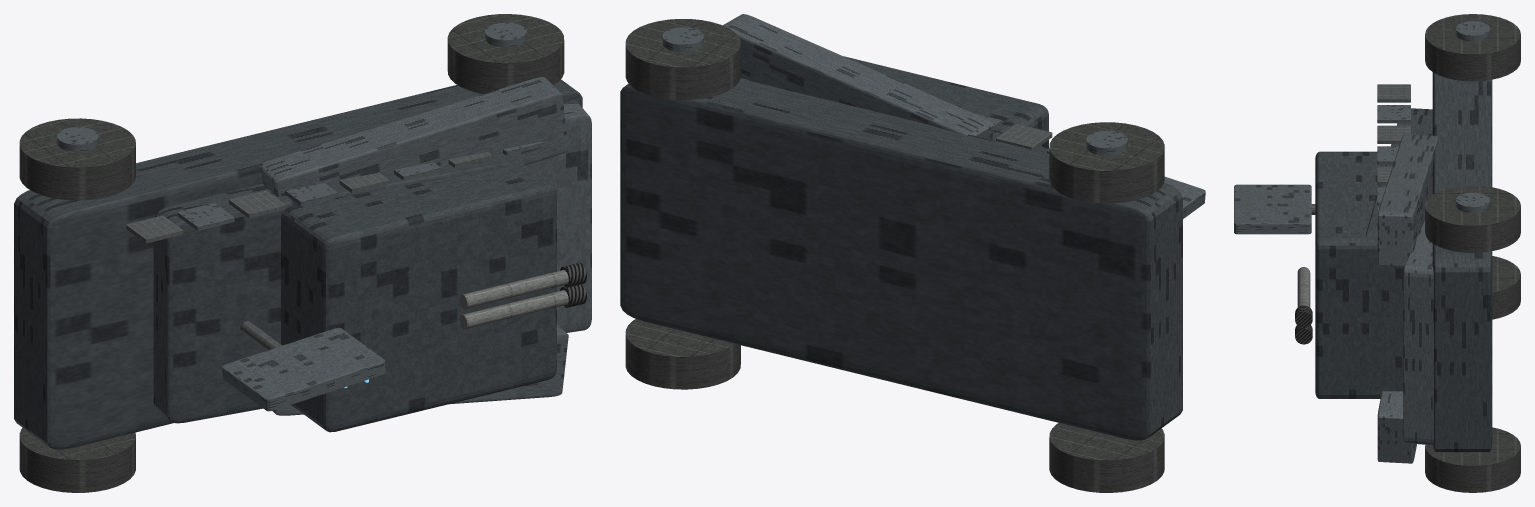
Rendered from s-u11-specter-recon-vehicle-lod0.glb.
3 views of the same model, side by side, from view 1: azimuth 30°, elevation 25°; view 2: azimuth 150°, elevation 25°; view 3: azimuth 270°, elevation 25° (orthographic). The views are drawn at different scales.
Parts seen in each view (by area): view 1: recon_cabin, chassis_lower, stealth_upper_hull, stealth_cheek_1, recon_sensor_array, chassis_wheel_1_0, chassis_wheel_1_1, chassis_nose, chassis_wheel_-1_0, stealth_cheek_-1, recon_gun_barrel_0, recon_gun_barrel_1 (+7 smaller); view 2: chassis_lower, stealth_cheek_1, chassis_wheel_1_0, chassis_wheel_1_1, chassis_wheel_-1_0, chassis_wheel_-1_1, recon_cabin, service_hatch_2, chassis_hub_1_0, chassis_hub_1_1, recon_sensor_array; view 3: recon_cabin, chassis_lower, chassis_nose, stealth_cheek_1, chassis_wheel_1_0, chassis_wheel_1_1, chassis_wheel_-1_1, recon_sensor_array, stealth_cheek_-1, chassis_wheel_-1_0, stealth_upper_hull, service_hatch_0 (+7 smaller).
Boxes of the visible parts, x1,y1,x2,y2 form: recon_cabin: [281, 157, 556, 432]; chassis_lower: [14, 79, 582, 449]; stealth_upper_hull: [153, 156, 513, 423]; stealth_cheek_1: [261, 77, 568, 196]; recon_sensor_array: [222, 327, 385, 411]; chassis_wheel_1_0: [19, 118, 135, 200]; chassis_wheel_1_1: [447, 14, 564, 93]; chassis_nose: [526, 100, 591, 332]; chassis_wheel_-1_0: [19, 428, 135, 492]; stealth_cheek_-1: [272, 324, 568, 415]; recon_gun_barrel_0: [459, 290, 568, 329]; recon_gun_barrel_1: [459, 270, 568, 309]; chassis_lower: [620, 79, 1182, 440]; stealth_cheek_1: [723, 14, 993, 139]; chassis_wheel_1_0: [1049, 122, 1164, 203]; chassis_wheel_1_1: [625, 19, 740, 99]; chassis_wheel_-1_0: [1049, 423, 1164, 492]; chassis_wheel_-1_1: [625, 319, 740, 389]; recon_cabin: [843, 56, 1048, 148]; service_hatch_2: [996, 124, 1052, 150]; chassis_hub_1_0: [1086, 130, 1127, 155]; chassis_hub_1_1: [662, 27, 703, 51]; recon_sensor_array: [1164, 176, 1205, 218]; recon_cabin: [1315, 151, 1404, 398]; chassis_lower: [1432, 72, 1492, 452]; chassis_nose: [1403, 219, 1433, 445]; stealth_cheek_1: [1377, 134, 1438, 266]; chassis_wheel_1_0: [1425, 14, 1520, 81]; chassis_wheel_1_1: [1425, 185, 1520, 252]; chassis_wheel_-1_1: [1425, 427, 1520, 492]; recon_sensor_array: [1234, 184, 1311, 234]; stealth_cheek_-1: [1377, 391, 1416, 463]; chassis_wheel_-1_0: [1492, 256, 1520, 319]; stealth_upper_hull: [1366, 108, 1432, 236]; service_hatch_0: [1377, 84, 1410, 102].
Size of what is drawn, in the model's own units: 4.43 by 2.69 by 2.51.
7 materials, 7 textured.
